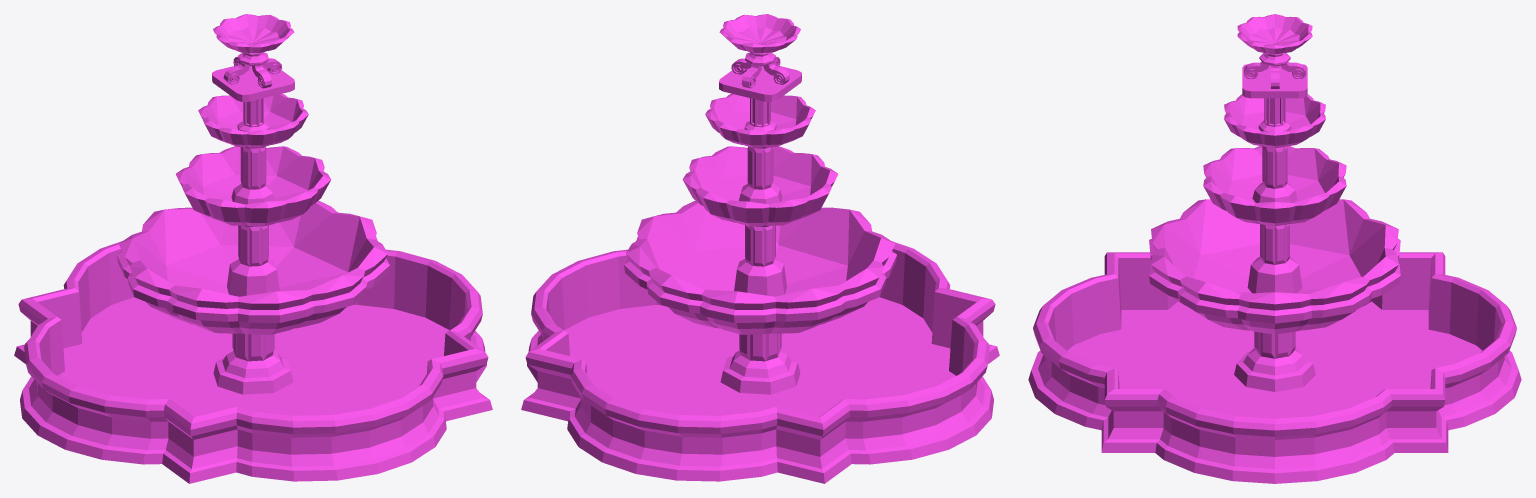
Rendered from SM_Fountain_A_Fantasy.fbx.
3 views of the same model, side by side, from view 1: azimuth 30°, elevation 25°; view 2: azimuth 150°, elevation 25°; view 3: azimuth 270°, elevation 25° (orthographic).
Visible parts, largest first — view 1: SM_Fountain_A_Fantasy; view 2: SM_Fountain_A_Fantasy; view 3: SM_Fountain_A_Fantasy.
Part boxes in pixels (x1=…): SM_Fountain_A_Fantasy: x1=14, y1=14, x2=492, y2=483; SM_Fountain_A_Fantasy: x1=521, y1=14, x2=999, y2=483; SM_Fountain_A_Fantasy: x1=1028, y1=14, x2=1521, y2=483.
Size of the model in its own units: 6 by 4.7 by 6.
